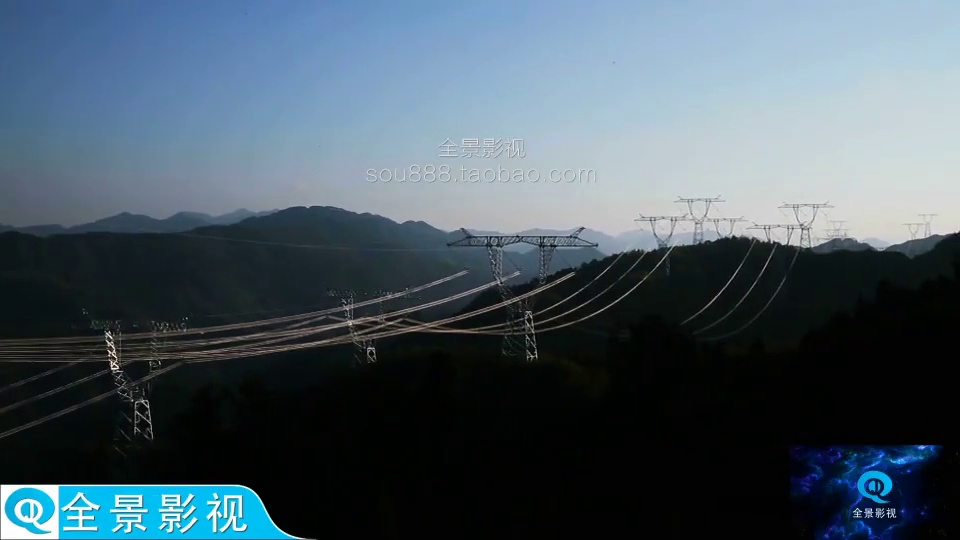tower_body: (448, 225, 521, 298), (525, 223, 600, 293)
tower_head: (520, 228, 601, 252), (451, 231, 525, 249)
